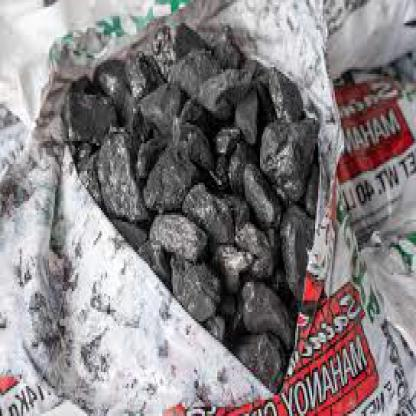Sedimentary_coal: (262, 104, 321, 190), (100, 134, 146, 213), (170, 254, 229, 314), (151, 143, 199, 213), (187, 178, 237, 245), (242, 273, 302, 328), (135, 76, 182, 125), (154, 213, 204, 252)
